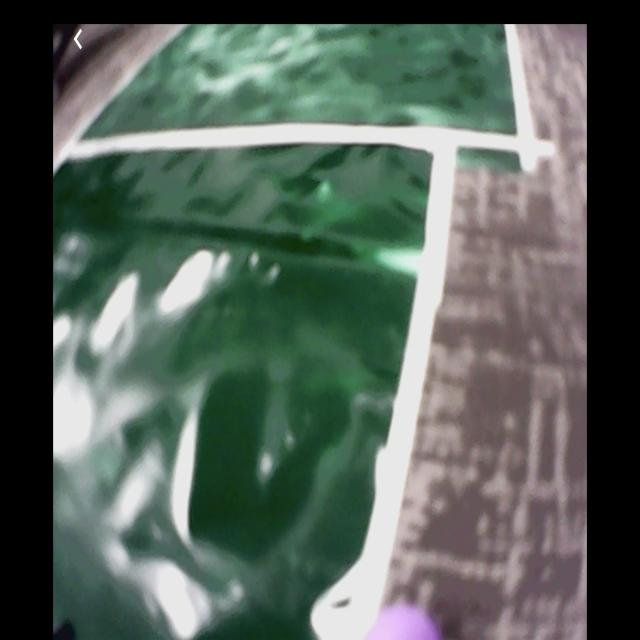ball: (363, 606, 447, 640)
